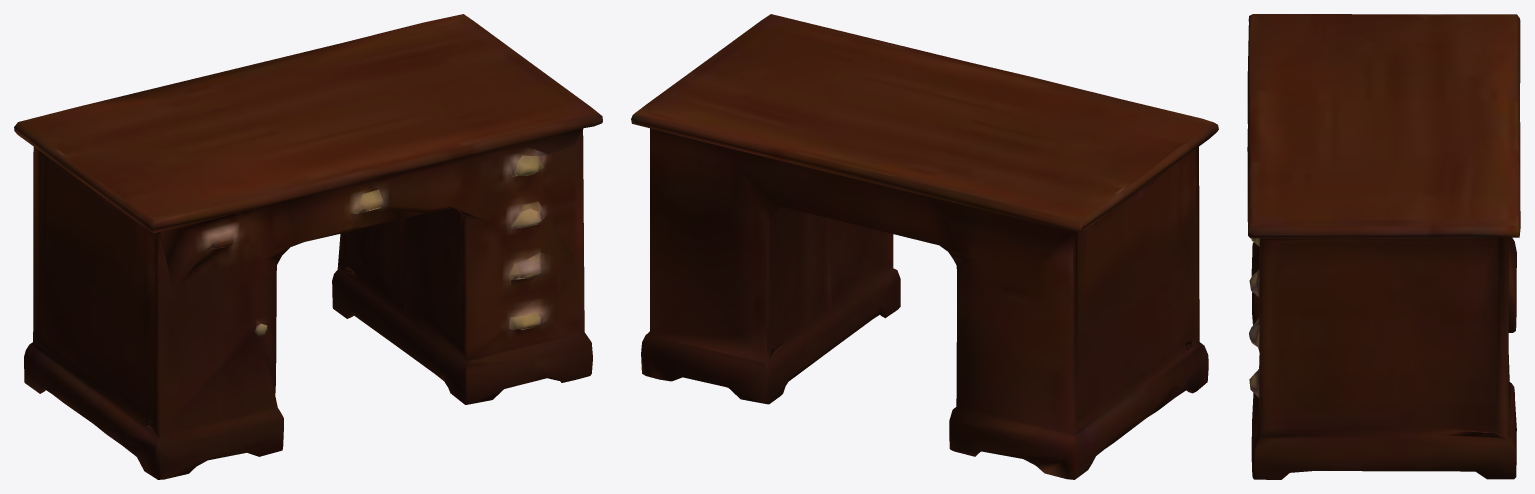
Rendered from escritorio.movil.glb.
The picture shows the model from 3 angles, left to right: view 1: azimuth 30°, elevation 25°; view 2: azimuth 150°, elevation 25°; view 3: azimuth 270°, elevation 25°; orthographic projection. The views are drawn at different scales.
Visible parts, largest first — view 1: geometry_0; view 2: geometry_0; view 3: geometry_0.
Part boxes in pixels (<box>): geometry_0: <box>14,14,602,479</box>; geometry_0: <box>631,14,1218,479</box>; geometry_0: <box>1247,14,1520,479</box>.
Bounding box in the file's own units: 1.4 × 0.7799 × 0.7491.
Materials: 1 (1 with a texture image).
